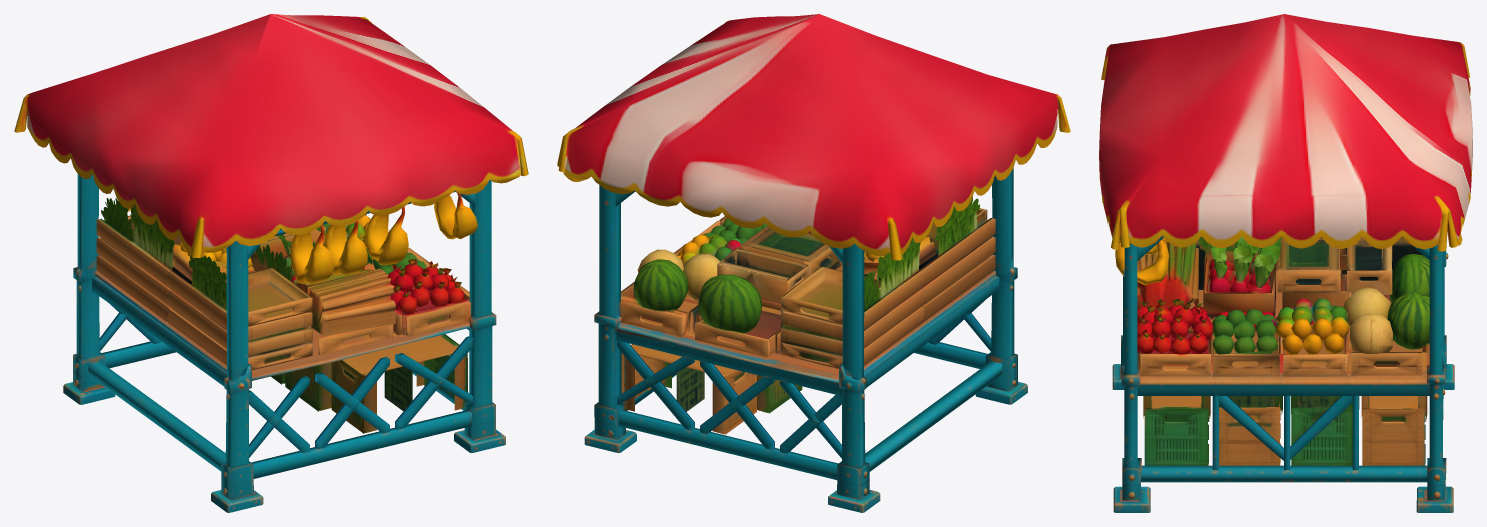
Rendered from tripo_convert_604263cf-fad1-41dd-9715-bfb5e8cadf5b.glb.
3 renders of one model, left to right at view 1: azimuth 30°, elevation 25°; view 2: azimuth 150°, elevation 25°; view 3: azimuth 270°, elevation 25°, orthographic. The views are drawn at different scales.
Parts seen in each view (by area): view 1: tripo_node_604263cf-fad1-41dd-9715-bfb5e8cadf5b; view 2: tripo_node_604263cf-fad1-41dd-9715-bfb5e8cadf5b; view 3: tripo_node_604263cf-fad1-41dd-9715-bfb5e8cadf5b.
Boxes of the visible parts, x1,y1,x2,y2 form: tripo_node_604263cf-fad1-41dd-9715-bfb5e8cadf5b: (14,14,528,512); tripo_node_604263cf-fad1-41dd-9715-bfb5e8cadf5b: (557,14,1070,512); tripo_node_604263cf-fad1-41dd-9715-bfb5e8cadf5b: (1099,14,1472,512).
Bounding box in the file's own units: 0.9077 × 0.9995 × 0.8022.
Materials: 1 (1 with a texture image).
